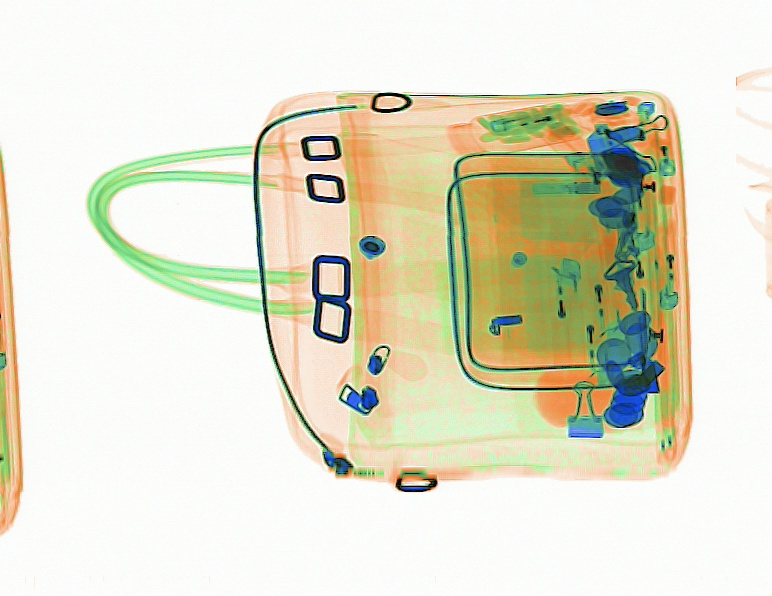lighter: (563, 145, 633, 218), (579, 272, 619, 389), (577, 249, 619, 359), (545, 255, 584, 368), (610, 202, 652, 305), (653, 204, 682, 312), (488, 105, 586, 135), (610, 169, 677, 206), (646, 109, 677, 178)
